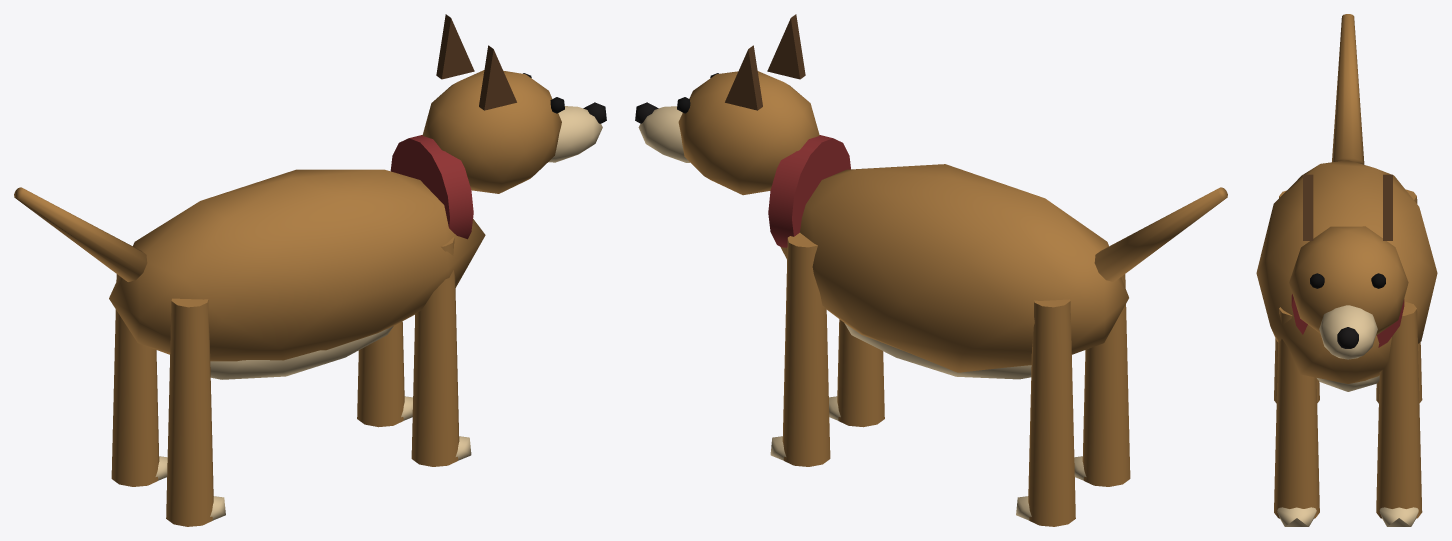
Rendered from perro.glb.
3 renders of one model, left to right at view 1: azimuth 30°, elevation 25°; view 2: azimuth 150°, elevation 25°; view 3: azimuth 270°, elevation 25°, orthographic. The views are drawn at different scales.
Visible parts, largest first — view 1: perro_cuerpo, perro_cabeza, perro_pata_td, perro_pata_dd, perro_pata_ti, perro_pata_di, perro_cola; view 2: perro_cuerpo, perro_cabeza, perro_pata_ti, perro_pata_di, perro_pata_td, perro_pata_dd, perro_cola; view 3: perro_cuerpo, perro_cabeza, perro_pata_di, perro_pata_dd, perro_cola, perro_pata_ti, perro_pata_td.
Part boxes in pixels (x1,y1,x2,y2): perro_cuerpo: [109, 135, 485, 379]; perro_cabeza: [422, 14, 606, 193]; perro_pata_td: [166, 298, 225, 526]; perro_pata_dd: [411, 237, 471, 466]; perro_pata_ti: [111, 274, 167, 486]; perro_pata_di: [357, 321, 412, 427]; perro_cola: [14, 187, 147, 281]; perro_cuerpo: [768, 135, 1128, 379]; perro_cabeza: [635, 14, 819, 195]; perro_pata_ti: [1016, 299, 1075, 526]; perro_pata_di: [770, 233, 830, 466]; perro_pata_td: [1074, 274, 1130, 486]; perro_pata_dd: [829, 319, 884, 427]; perro_cola: [1094, 187, 1227, 281]; perro_cuerpo: [1256, 160, 1437, 391]; perro_cabeza: [1289, 174, 1408, 359]; perro_pata_di: [1376, 301, 1422, 526]; perro_pata_dd: [1274, 307, 1319, 526]; perro_cola: [1332, 14, 1364, 164]; perro_pata_ti: [1376, 189, 1422, 403]; perro_pata_td: [1274, 190, 1319, 403].
Size of the model in its own units: 1.25 by 0.807 by 0.3542.
